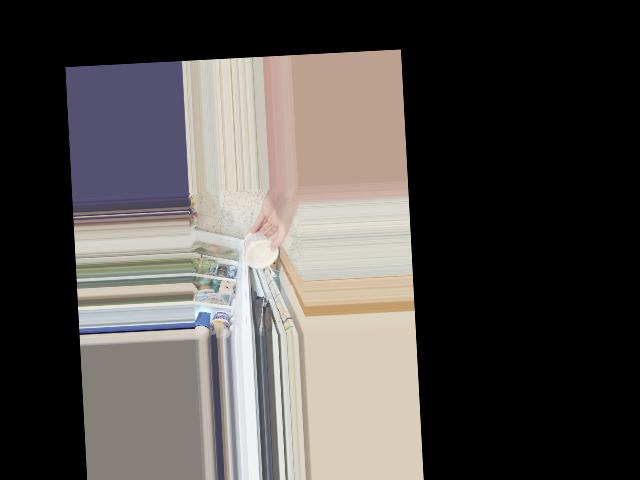cotage: (245, 233, 276, 269)
